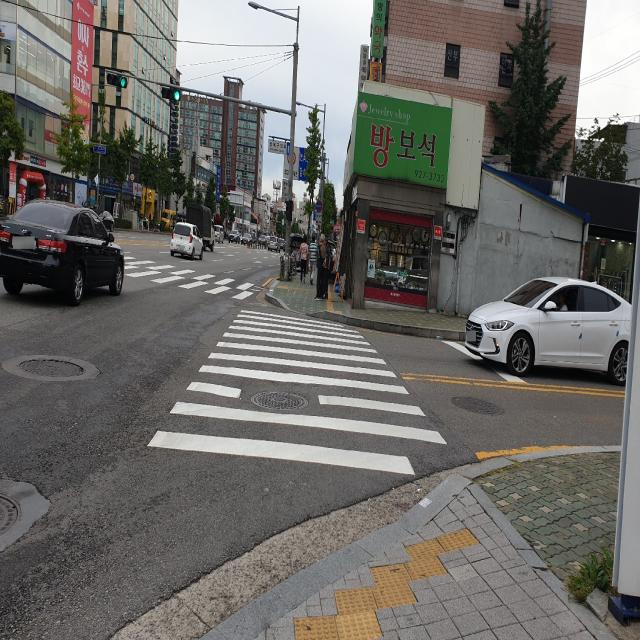횡단보도: (146, 306, 448, 481), (125, 249, 252, 306)
